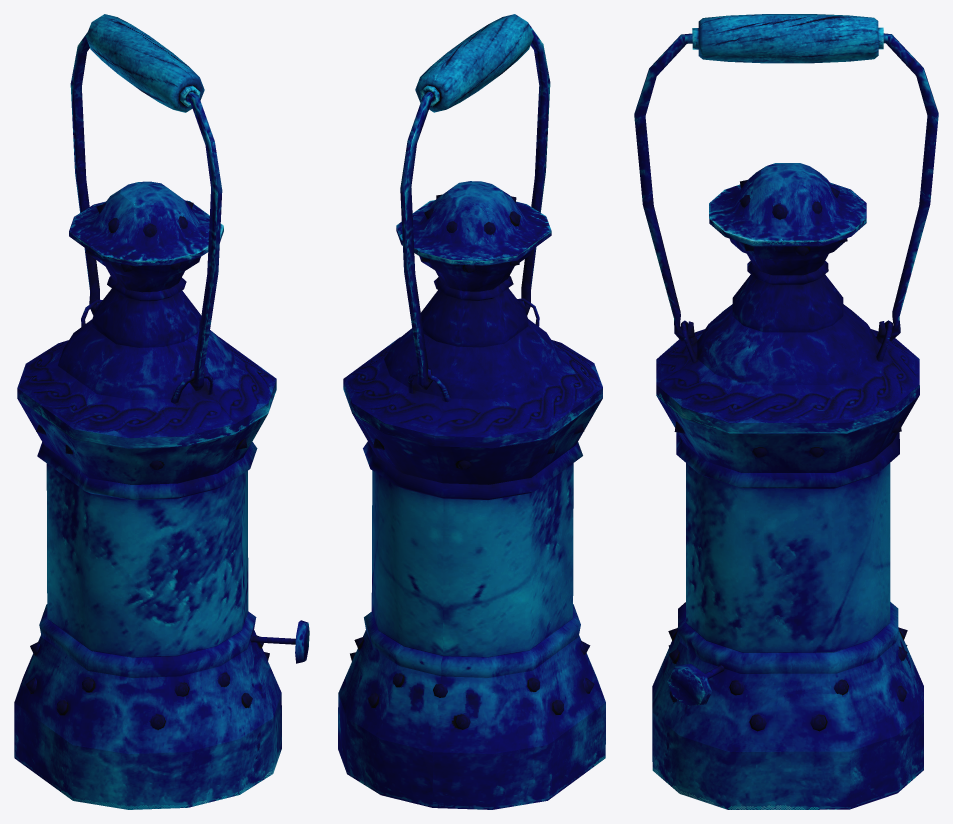
Rendered from hand_lantern.dae.
3 views of the same model, side by side, from view 1: azimuth 30°, elevation 25°; view 2: azimuth 150°, elevation 25°; view 3: azimuth 270°, elevation 25° (orthographic). The views are drawn at different scales.
Visible parts, largest first — view 1: lantern, handle_wood; view 2: lantern, handle_wood; view 3: lantern, handle_wood.
Part boxes in pixels (bbox=[...]): lantern: bbox=[14, 32, 309, 809]; handle_wood: bbox=[86, 14, 204, 112]; lantern: bbox=[338, 23, 605, 809]; handle_wood: bbox=[415, 14, 533, 112]; lantern: bbox=[634, 33, 938, 809]; handle_wood: bbox=[692, 14, 883, 63].
Size of the model in its own units: 0.0633 by 0.1885 by 0.0702.
